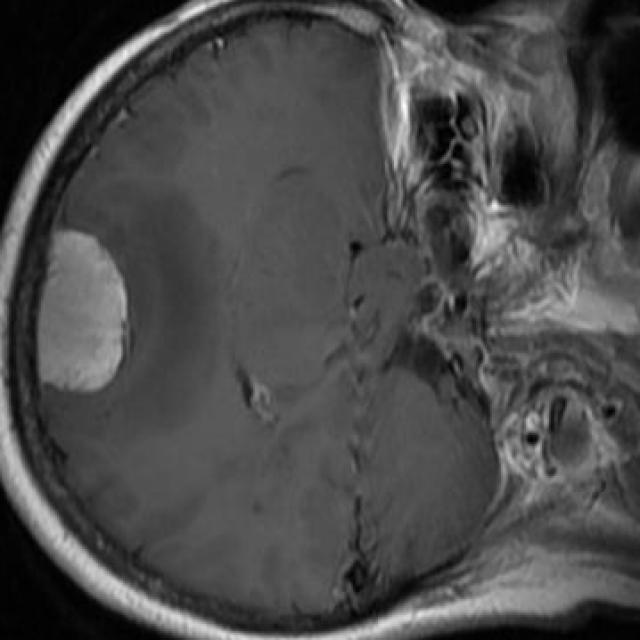meningioma: (39, 230, 127, 394)
